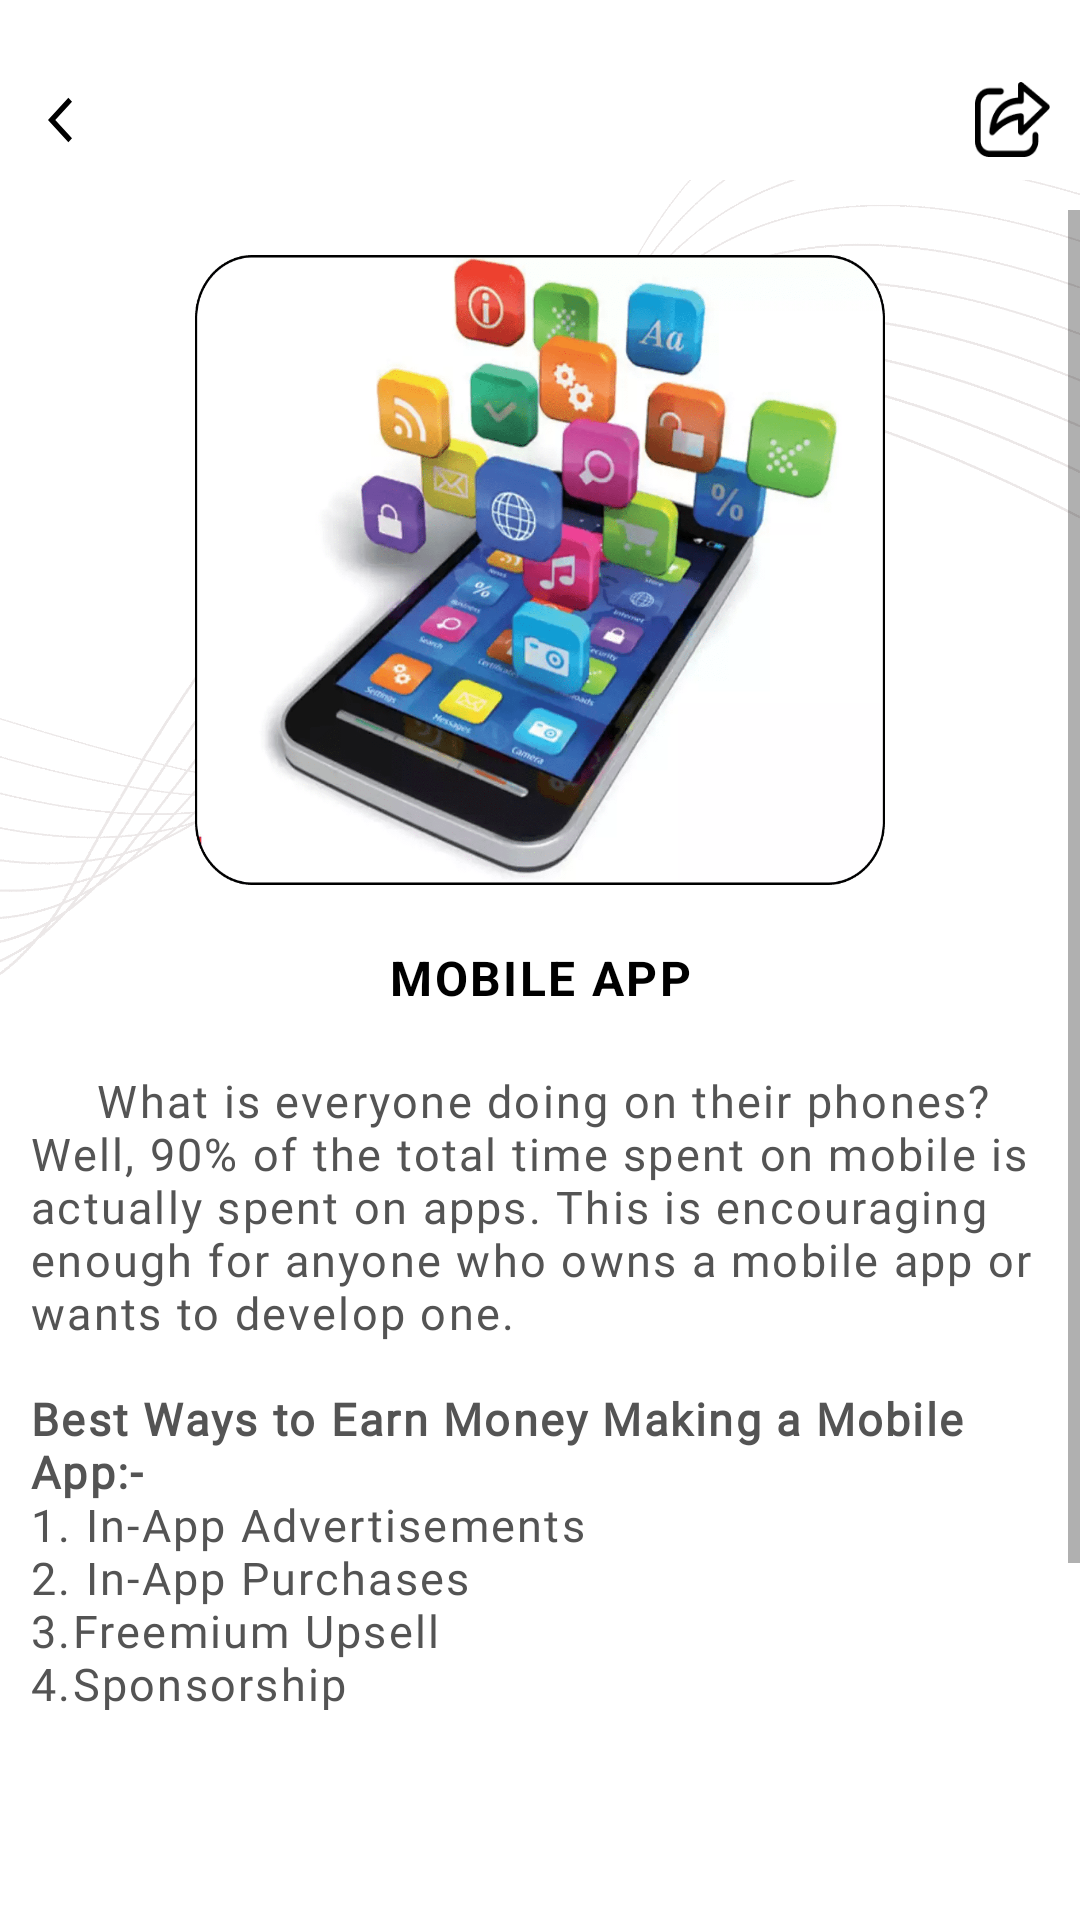

Locate icon controls on the screen. Image size 1080 × 1920, boxes as (left=x1, top=y1, right=x2, bottom=y2).
share: (left=975, top=82, right=1050, bottom=157)
